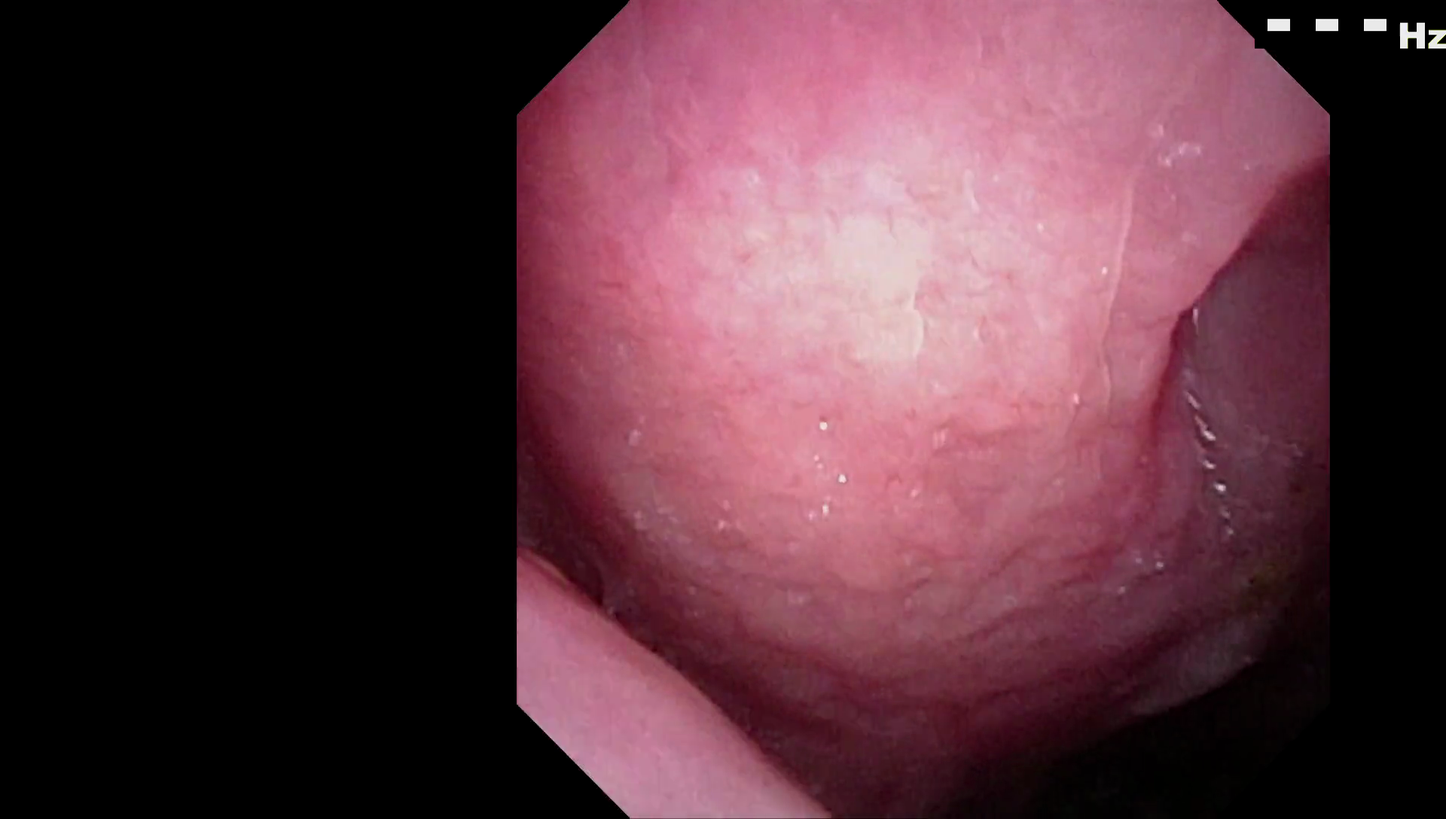close_wall: (636, 71, 1187, 575)
next: (920, 625, 1284, 808)
